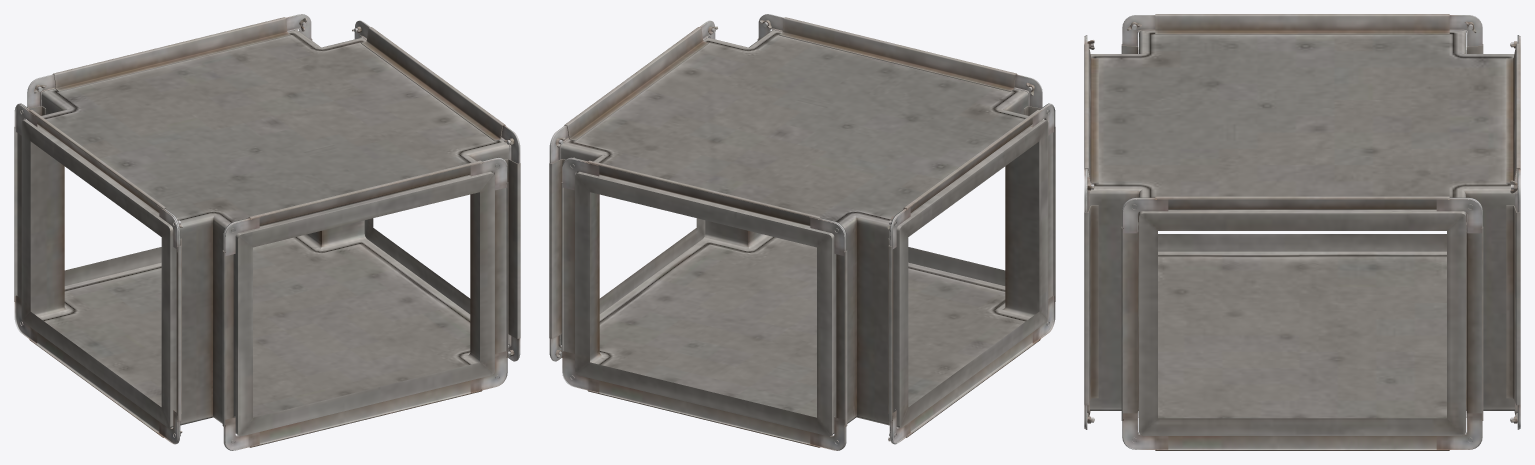
Rendered from cross.glb.
3 renders of one model, left to right at view 1: azimuth 30°, elevation 25°; view 2: azimuth 150°, elevation 25°; view 3: azimuth 270°, elevation 25°, orthographic. The views are drawn at different scales.
Visible parts, largest first — view 1: modular_airduct_rectangular_01_splitter_01; view 2: modular_airduct_rectangular_01_splitter_01; view 3: modular_airduct_rectangular_01_splitter_01.
Boxes of the visible parts, x1,y1,x2,y2 form: modular_airduct_rectangular_01_splitter_01: (14, 14, 520, 450); modular_airduct_rectangular_01_splitter_01: (549, 14, 1055, 450); modular_airduct_rectangular_01_splitter_01: (1084, 14, 1520, 450).
Bounding box in the file's own units: 0.8 × 0.5126 × 0.8.
2 materials, 2 textured.
